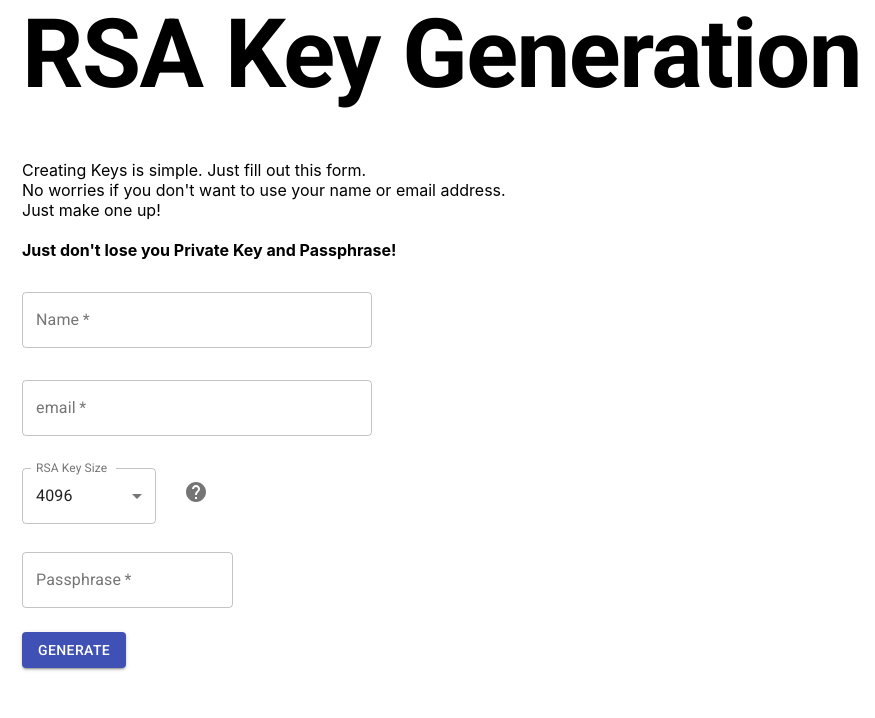
Test case: Passphrase Tests › Incorrect EM
Step 1. Type "test" into the field labelled "Name *" → (197, 320), box [22, 292, 372, 348]
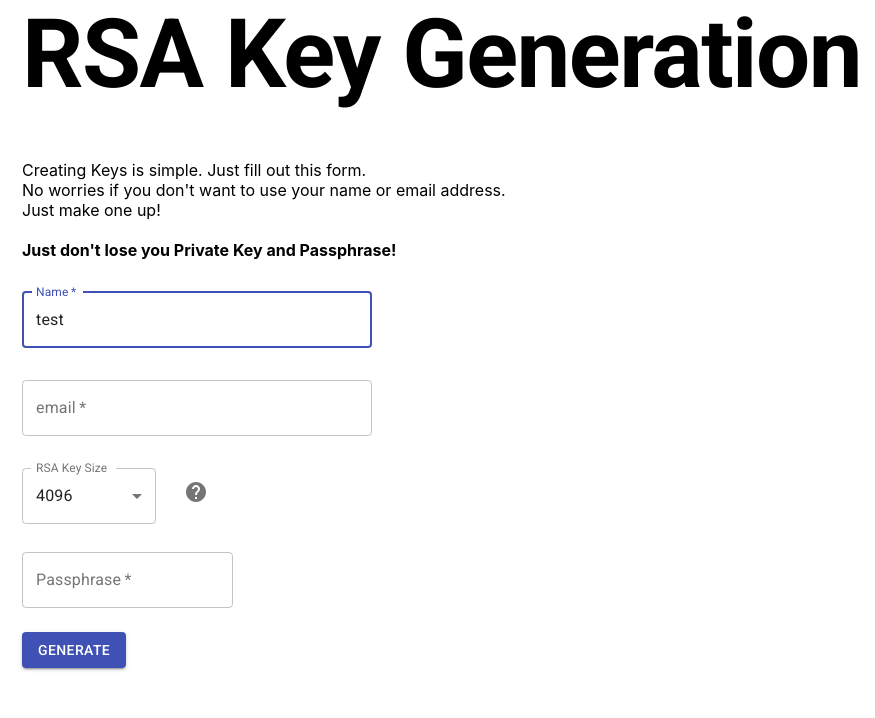
Step 2. Type "em" into the field labelled "email *" → (197, 408), box [22, 380, 372, 436]
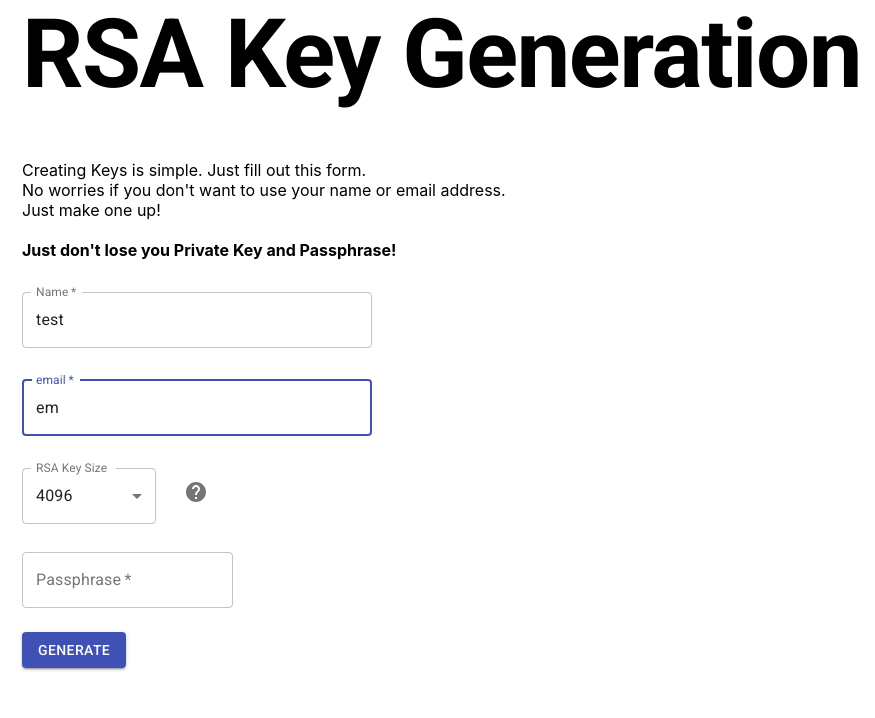
Step 3. Type "t" into the password field labelled "Passphrase *" → (128, 580), box [22, 552, 233, 608]
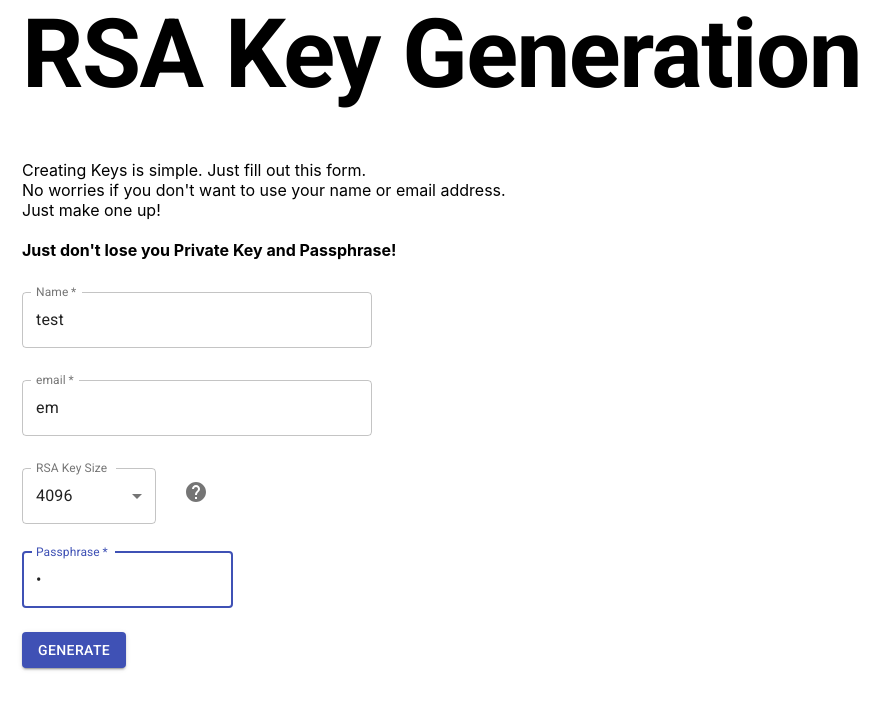
Step 4. Click the button "Generate" → click(74, 650), box [22, 632, 126, 668]
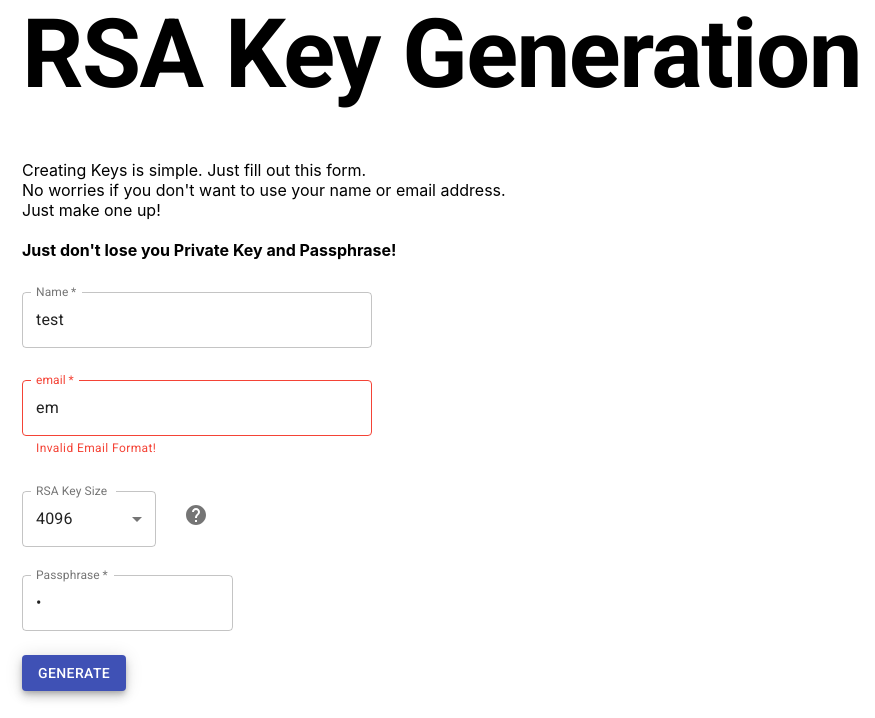
Check: the text "Invalid Email Format" is shown, box [36, 441, 156, 455]
